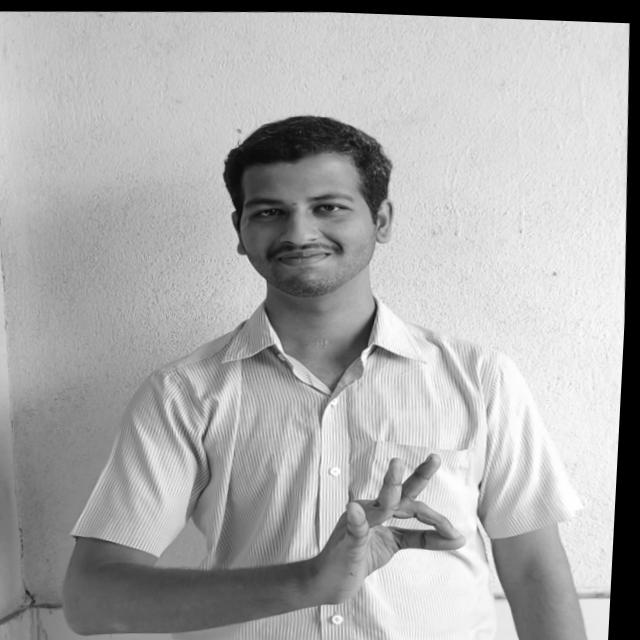Superb: (325, 444, 479, 601)
